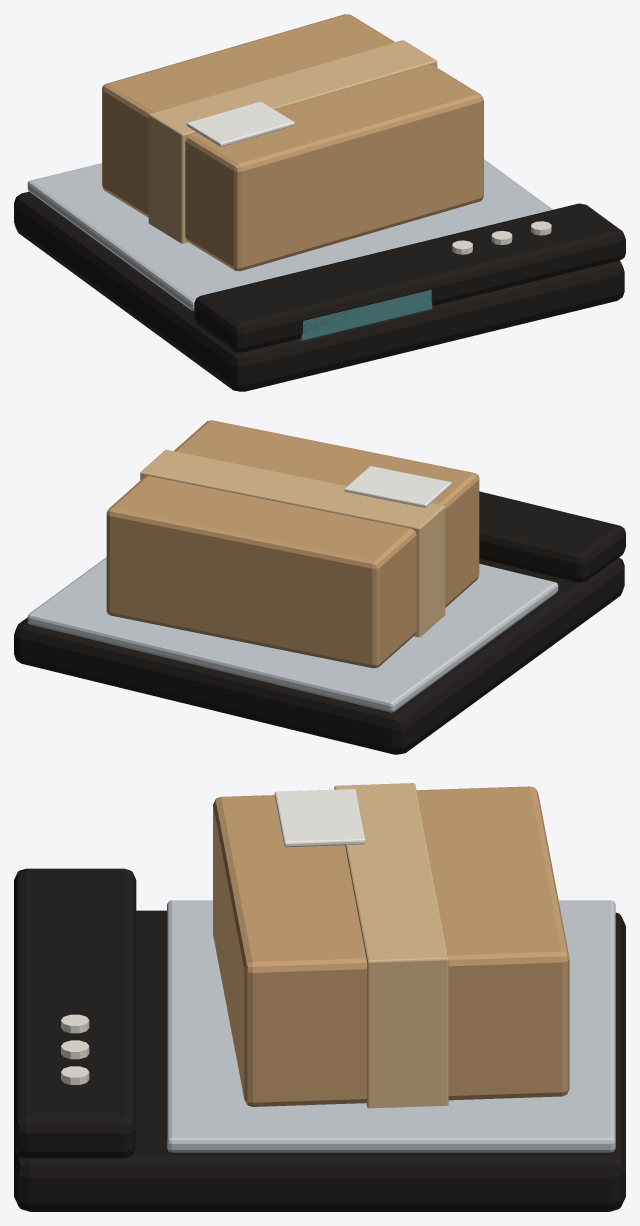
The model's file is hh_cat_dispatch_scale.glb.
3 views of the same model, one above another, from view 1: azimuth 30°, elevation 25°; view 2: azimuth 150°, elevation 25°; view 3: azimuth 270°, elevation 25° (orthographic). The views are drawn at different scales.
Visible parts, largest first — view 1: parcel, scale_base, scale_console, weigh_platform, parcel_tape, parcel_label, display; view 2: parcel, scale_base, weigh_platform, parcel_tape, scale_console, parcel_label; view 3: parcel, scale_base, weigh_platform, scale_console, parcel_tape, parcel_label.
Boxes of the visible parts, x1,y1,x2,y2 form: parcel: [102, 14, 483, 271]; scale_base: [14, 191, 624, 391]; scale_console: [194, 203, 625, 352]; weigh_platform: [27, 159, 552, 310]; parcel_tape: [148, 40, 437, 243]; parcel_label: [186, 101, 294, 146]; display: [300, 289, 432, 340]; parcel: [106, 420, 479, 668]; scale_base: [14, 557, 624, 754]; weigh_platform: [27, 557, 558, 712]; parcel_tape: [140, 449, 445, 637]; scale_console: [479, 491, 625, 582]; parcel_label: [344, 466, 451, 507]; parcel: [213, 786, 569, 1106]; scale_base: [14, 910, 625, 1211]; weigh_platform: [167, 900, 615, 1152]; scale_console: [14, 868, 136, 1158]; parcel_tape: [334, 783, 448, 1108]; parcel_label: [274, 789, 365, 847].
Size of the model in its own units: 0.3 by 0.12 by 0.3.
